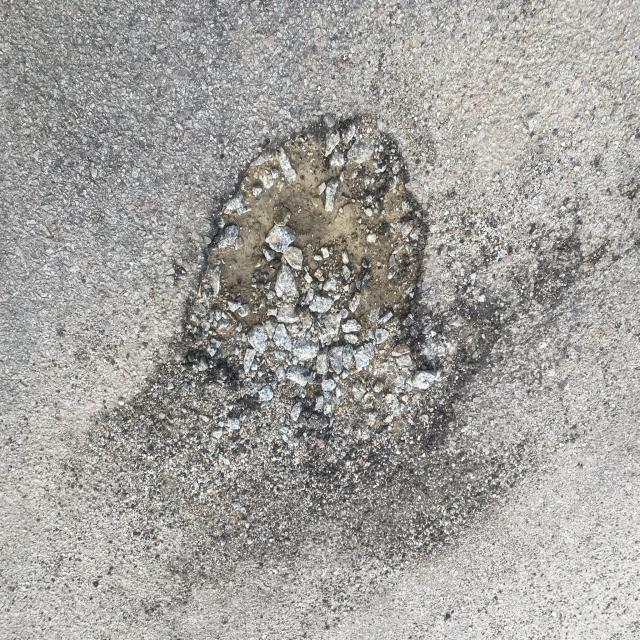Pothole: (123, 92, 538, 509)
